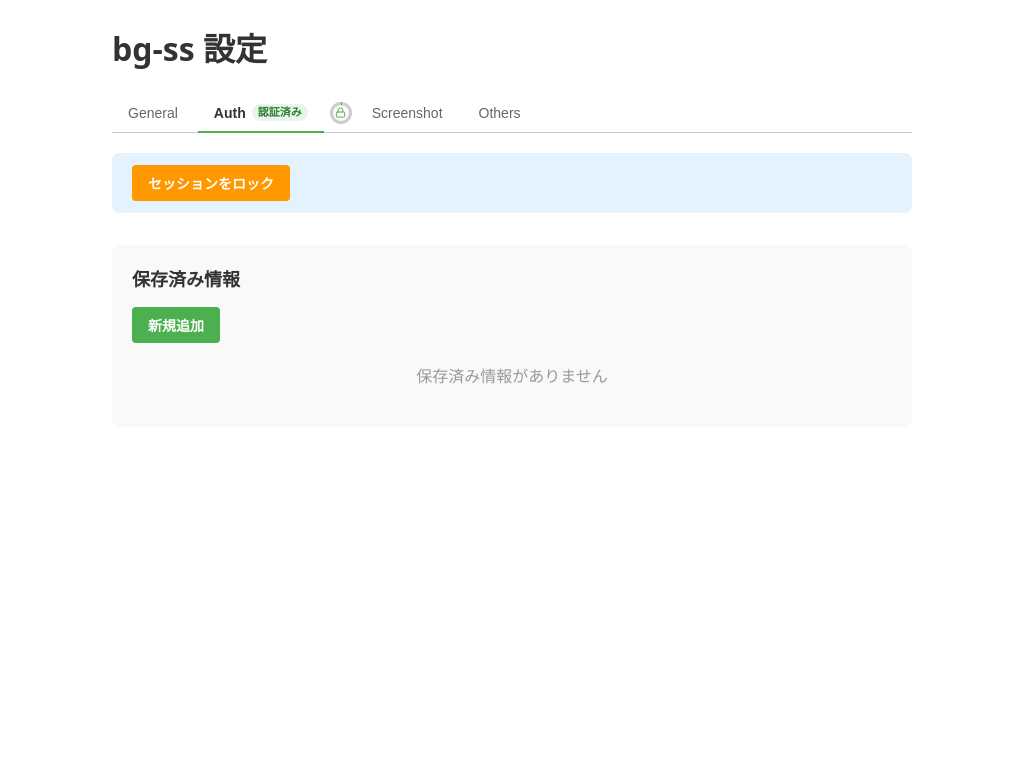
Test: Options App › 情報追加 › 新規追加ボタンをクリックするとフォームが表示される
Click the button "新規追加" at (176, 325), box [132,307,220,343]
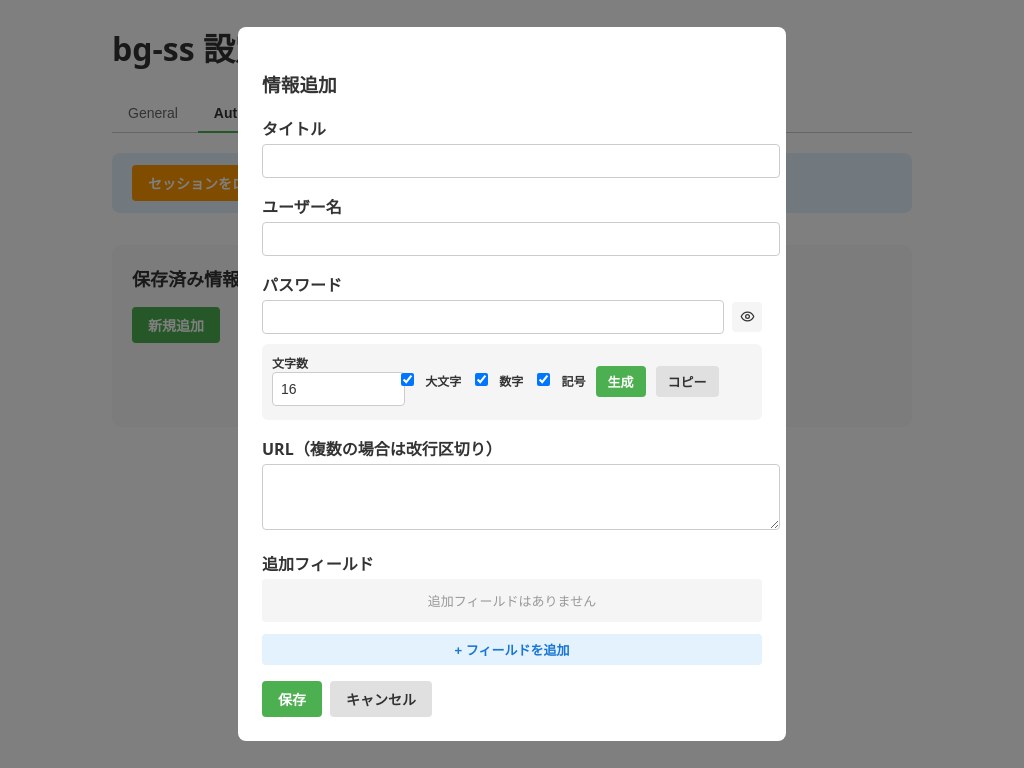
Now the text "情報追加" is shown, box [262,72,337,97]
Now the field below "タイトル" is shown, box [262,144,780,178]
Now the password field is shown, box [262,300,724,334]
